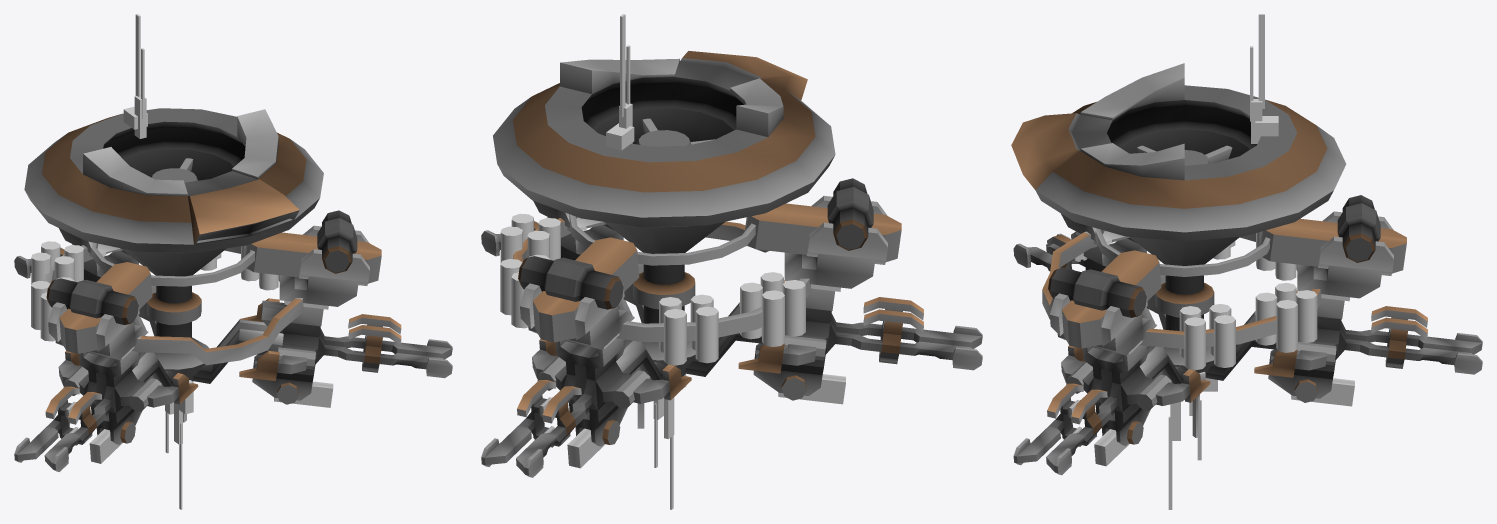
Rendered from SciFiSpaceStation4.fbx.
The picture shows the model from 3 angles, left to right: view 1: azimuth 30°, elevation 25°; view 2: azimuth 150°, elevation 25°; view 3: azimuth 270°, elevation 25°; orthographic projection. The views are drawn at different scales.
Parts seen in each view (by area): view 1: SpaceStation4; view 2: SpaceStation4; view 3: SpaceStation4.
Boxes of the visible parts, box(x1,y1,x2,y2) form: SpaceStation4: box(14, 14, 452, 509); SpaceStation4: box(481, 14, 982, 509); SpaceStation4: box(1011, 14, 1482, 509).
Bounding box in the file's own units: 66.89 × 67.45 × 58.22.
